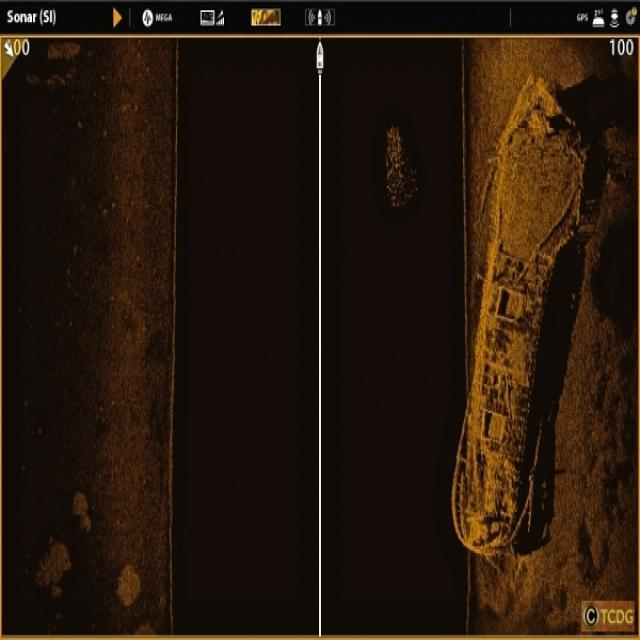shipwreck: (456, 84, 580, 554)
